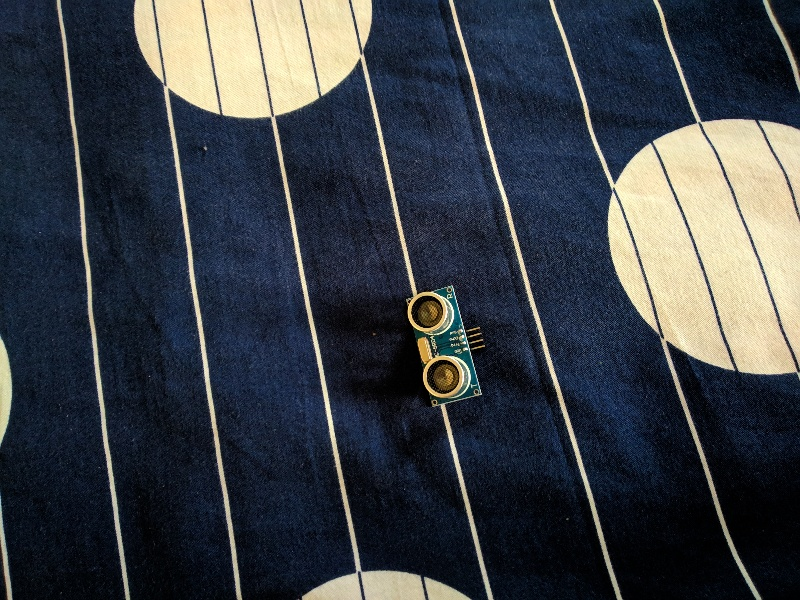Sonar Sensor: (401, 280, 492, 411)
